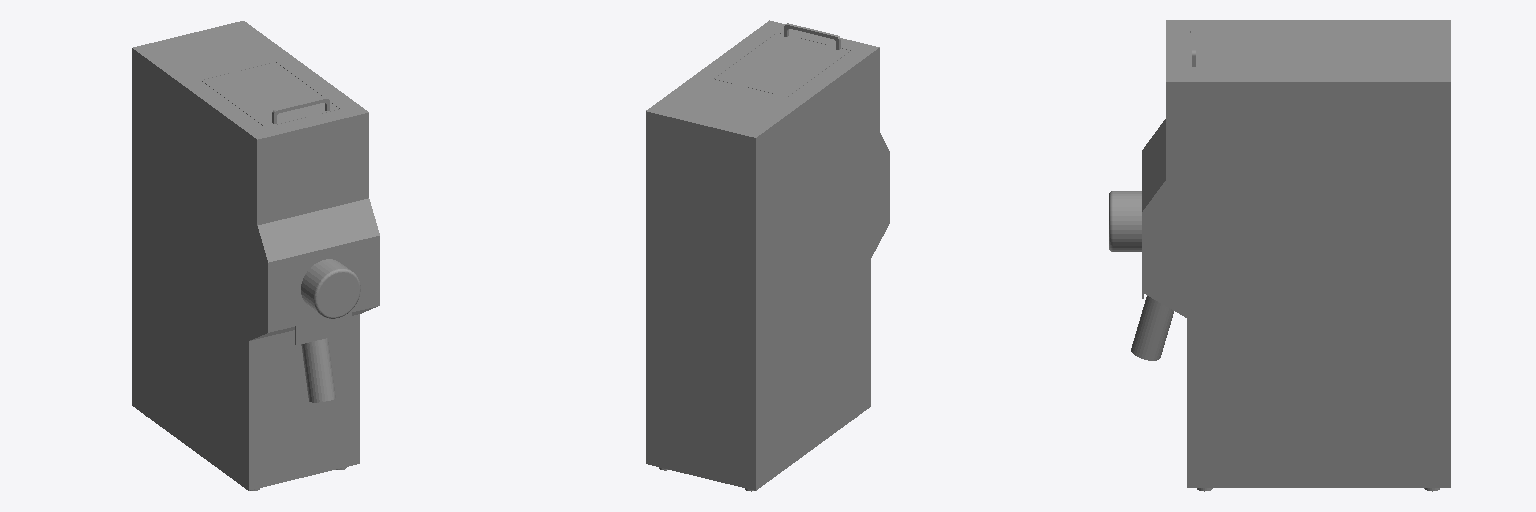
The robot description file, URDF, robot "hc880_smart_grinder":
<?xml version="1.0"?>
<!--
  hc880_smart_grinder.urdf
  바탕화면 HC-880_Smart_Grinder.stl → 변환. 단일 바디(링크 1개).
  - 원본 STL 단위 mm → 메쉬 좌표 자체를 m로 스케일 (scale="1 1 1")
  - 메쉬 파일 자체는 원본 CAD 기준점을 그대로 유지, base_link 원점은 visual/collision/inertial
    origin 오프셋(0, 0.0475, 0.01)으로 밑면 정중앙에 재배치 (원래 밑면이 원점보다 10mm 더
    파묻혀 있던 것을 보정)
  - 치수 0.180 x 0.420 x 0.580 m (삼각형 1,402면), base_link 기준 x:-0.090~0.090,
    y:-0.210~0.210, z:0~0.580 (밑면이 z=0)
  - 색상: 원본 STL 헤더에 기록된 Fusion 360 기본 색상(COLOR=A0A0A0FF)을 그대로 사용
  - 질량 18.0 kg은 유사 크기(air_compressor 15kg, doosan_controller 18kg)에 대한 공학적 추정치
  - 시각(visual): 원본 메쉬. 충돌(collision): 박스로 단순화(치수=메쉬 바운딩박스)
  - 정적 소품(바닥/스탠드 거치)이므로 스폰 시 AssetOptions.fix_base_link=True 권장
-->
<robot name="hc880_smart_grinder">

  <material name="grinder_gray"> <color rgba="0.627 0.627 0.627 1.0"/> </material>

  <link name="base_link">
    <inertial>
      <origin xyz="0 0 0.29"/>
      <mass value="18.0"/>
      <!-- 박스 관성 (m=18, 0.180x0.420x0.580) -->
      <inertia ixx="0.7692" ixy="0" ixz="0" iyy="0.5532" iyz="0" izz="0.3132"/>
    </inertial>

    <visual>
      <origin xyz="0 0.0 0.01"/>
      <geometry><mesh filename="meshes/hc880_smart_grinder.stl" scale="1 1 1"/></geometry>
      <material name="grinder_gray"/>
    </visual>

    <collision>
      <origin xyz="0 0 0.29"/>
      <geometry><box size="0.180 0.420 0.580"/></geometry>
    </collision>
  </link>
</robot>

--- What the picture shows (computed from the rendered views, not written in the file) ---
The picture shows the robot from 3 angles, left to right: view 1: azimuth 30°, elevation 25°; view 2: azimuth 150°, elevation 25°; view 3: azimuth 270°, elevation 25°; orthographic projection.
Robot: hc880_smart_grinder — 1 links, 0 joints (none); root link base_link; default pose: every joint at zero.
Links seen in each view (by area): view 1: base_link; view 2: base_link; view 3: base_link.
Boxes of the visible links, x1,y1,x2,y2 form: base_link: (132,21,379,490); base_link: (646,20,889,491); base_link: (1109,20,1450,491).
Size in the robot's own frame: 0.18 by 0.42 by 0.58 metres.
Meshes: 1 distinct files referenced, 1 mesh visuals loaded (1 binary STL).
